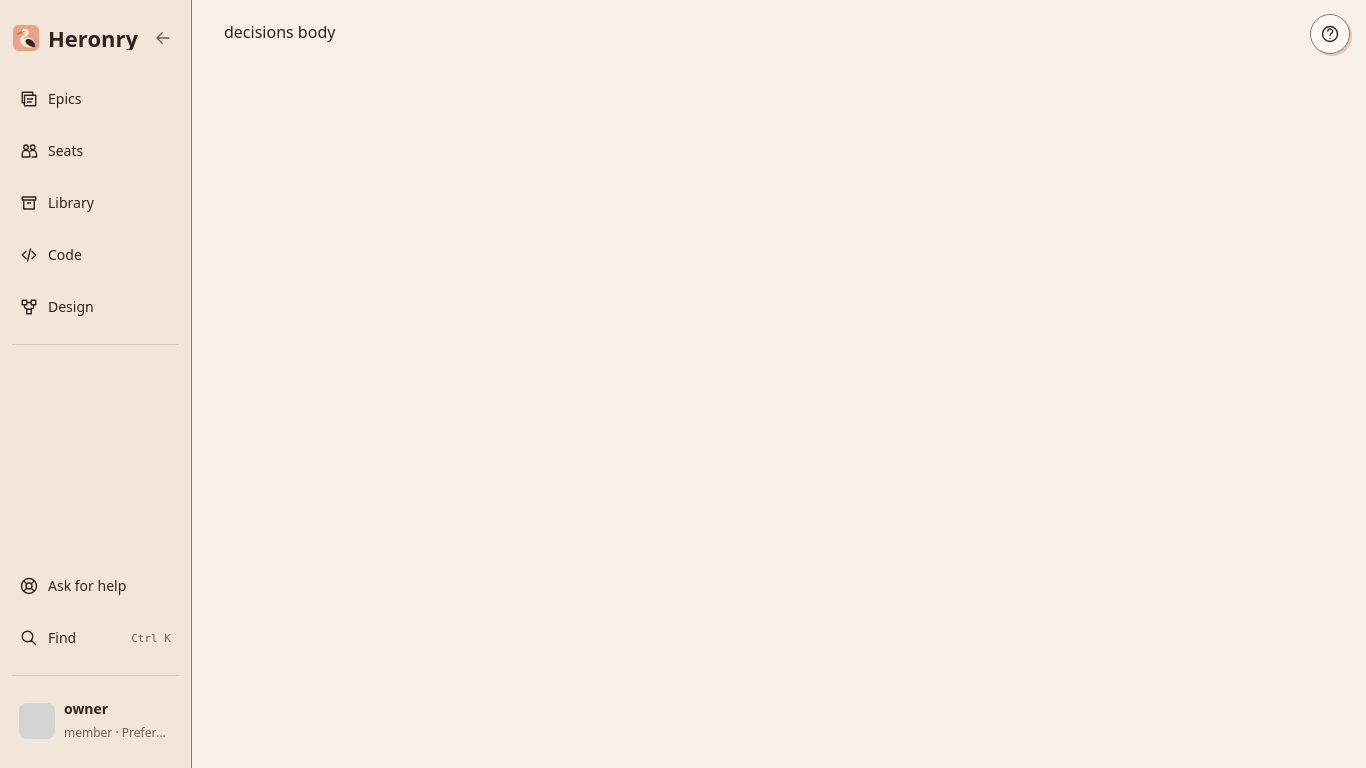
Test: Ask for help (S19 c-190f5c6276) › t-67dad8c6aa: lists the help requests with each seat's state and closes one
Click the button with test id "ask-help" at (96, 586), box [12,563,179,609]
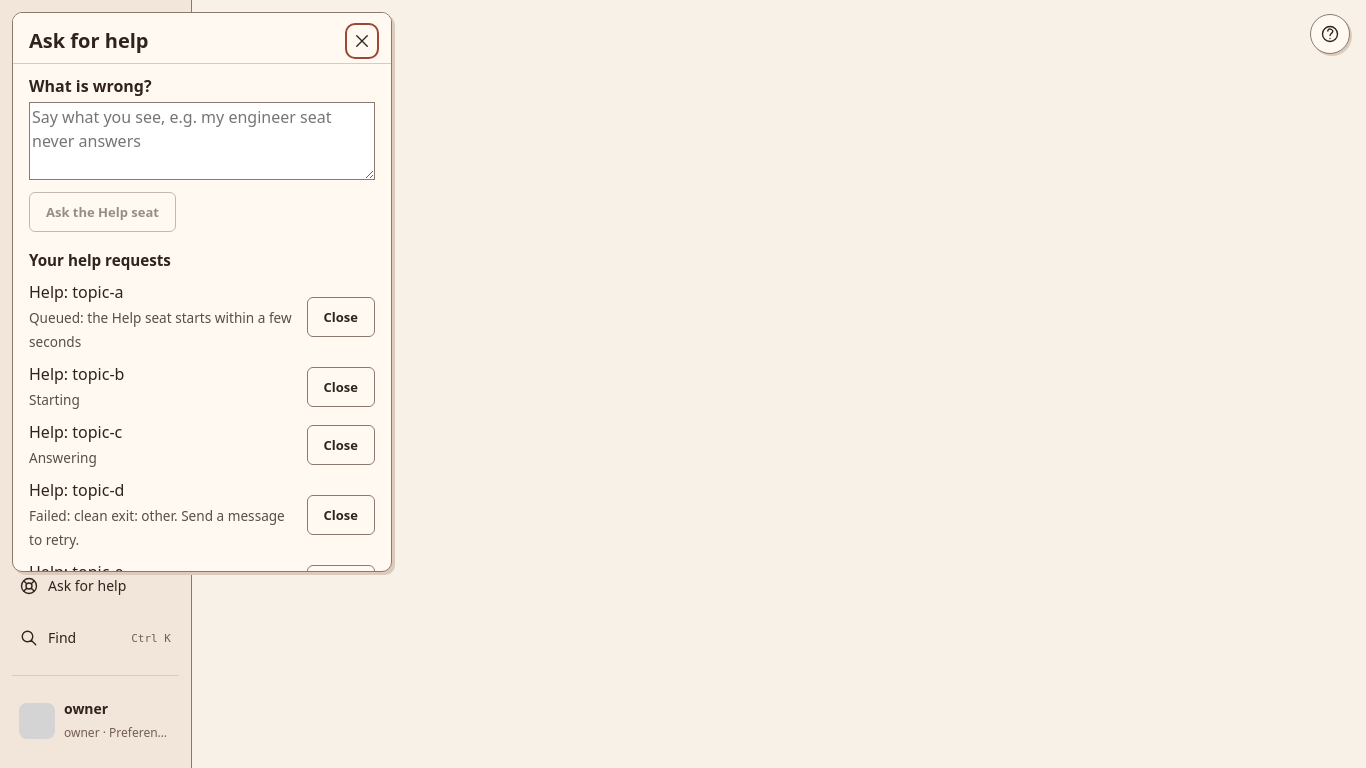
expect the number of list items with test id "help-request" is 5: met
Click the button with test id "help-close" in the row of "Help: topic-d" at (341, 515), box [307,495,375,535]
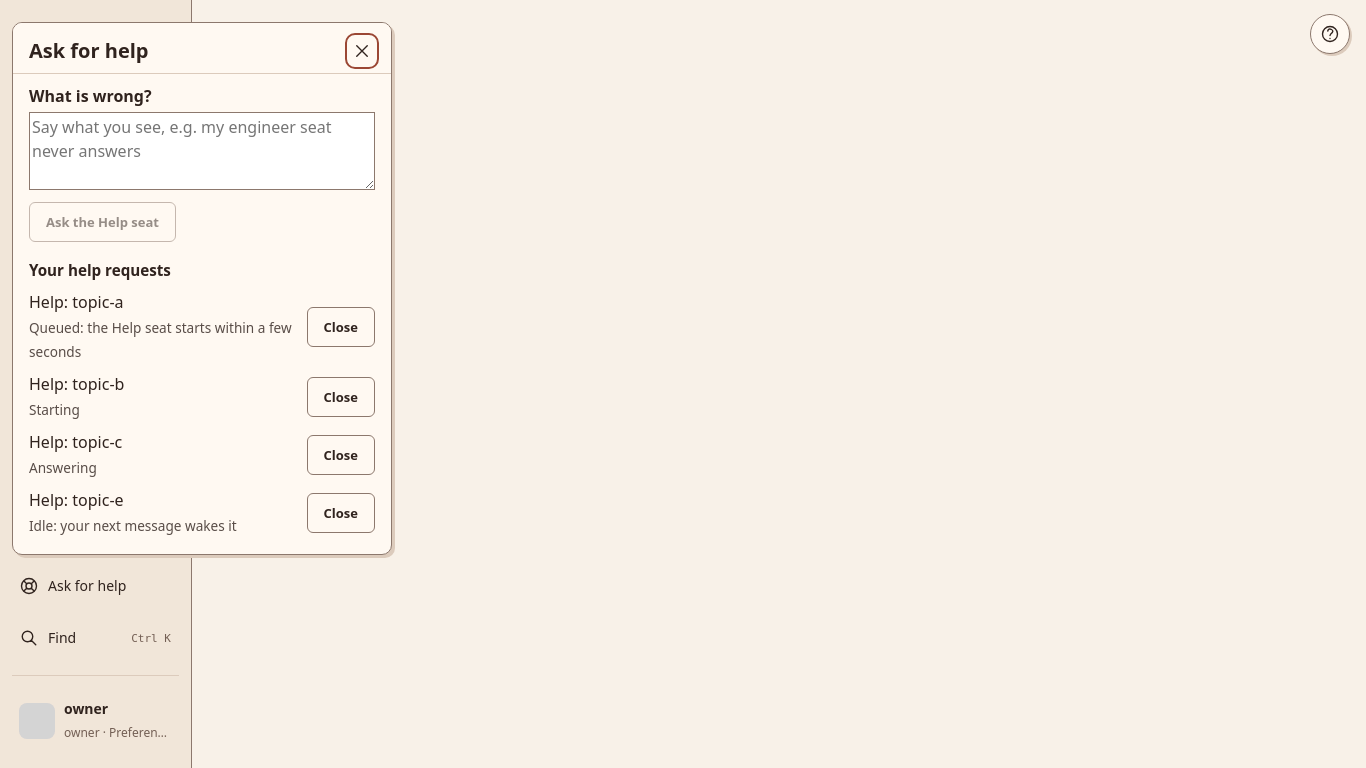
expect the number of list items with test id "help-request" is 4: met, box [29,290,375,364]; [29,372,375,422]; [29,430,375,480]; [29,488,375,538]
